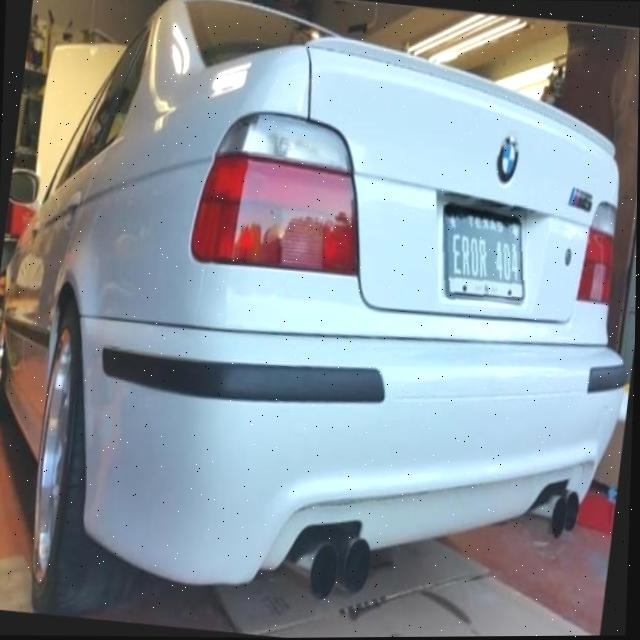LicensePlate: (444, 205, 525, 299)
